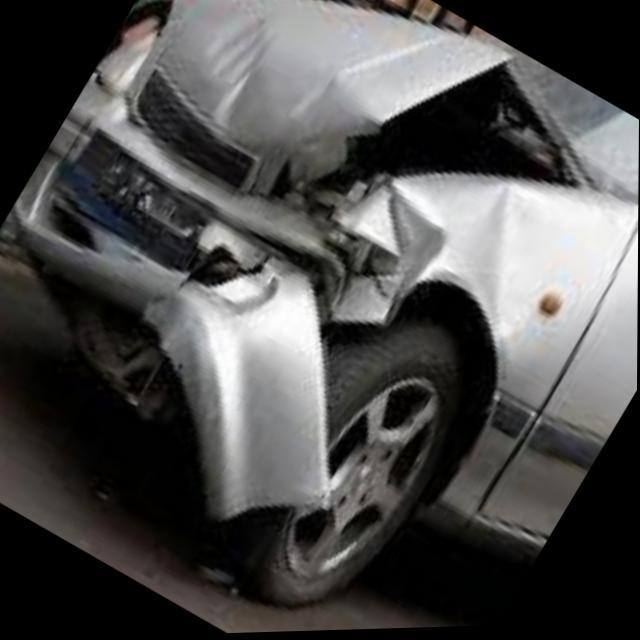dislocated part: (0, 0, 601, 534)
